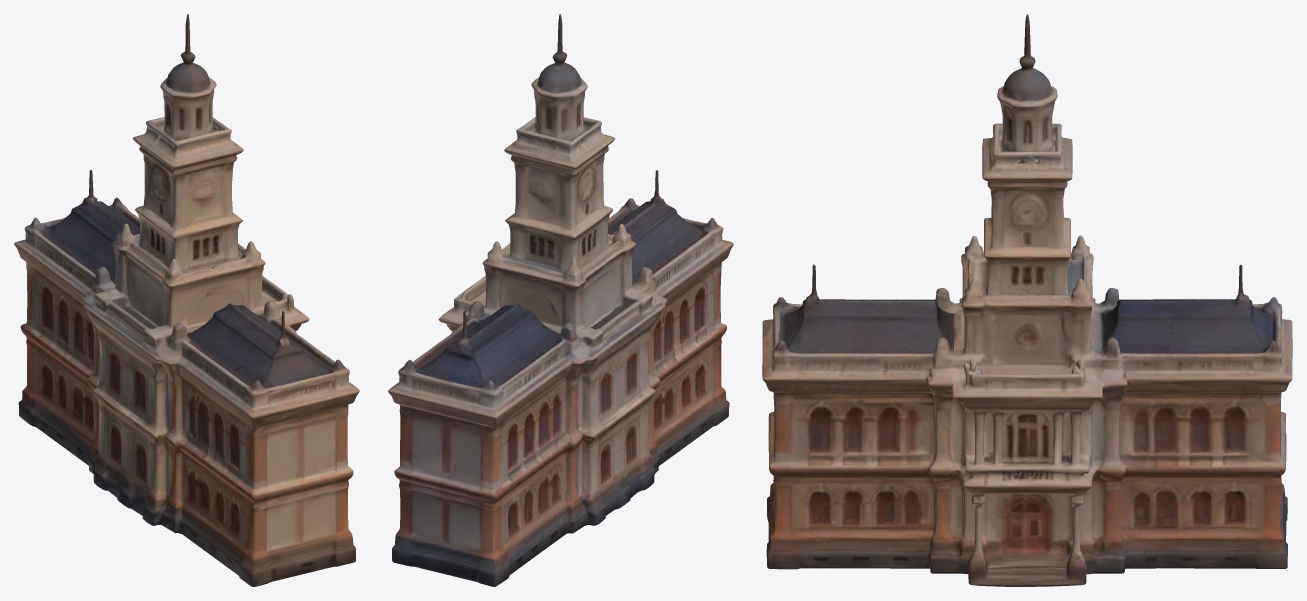
File: town_hall.glb
3 renders of one model, left to right at view 1: azimuth 30°, elevation 25°; view 2: azimuth 150°, elevation 25°; view 3: azimuth 270°, elevation 25°, orthographic. The views are drawn at different scales.
Parts seen in each view (by area): view 1: tripo_node_a276196c-5e43-4970-840a-b9242b295dd2; view 2: tripo_node_a276196c-5e43-4970-840a-b9242b295dd2; view 3: tripo_node_a276196c-5e43-4970-840a-b9242b295dd2.
Part boxes in pixels (<box>): tripo_node_a276196c-5e43-4970-840a-b9242b295dd2: <box>14,14,359,586</box>; tripo_node_a276196c-5e43-4970-840a-b9242b295dd2: <box>388,14,733,586</box>; tripo_node_a276196c-5e43-4970-840a-b9242b295dd2: <box>762,14,1292,586</box>.
Size of the model in its own units: 0.33 by 0.9502 by 0.8641.
Materials: 1 (1 with a texture image).
